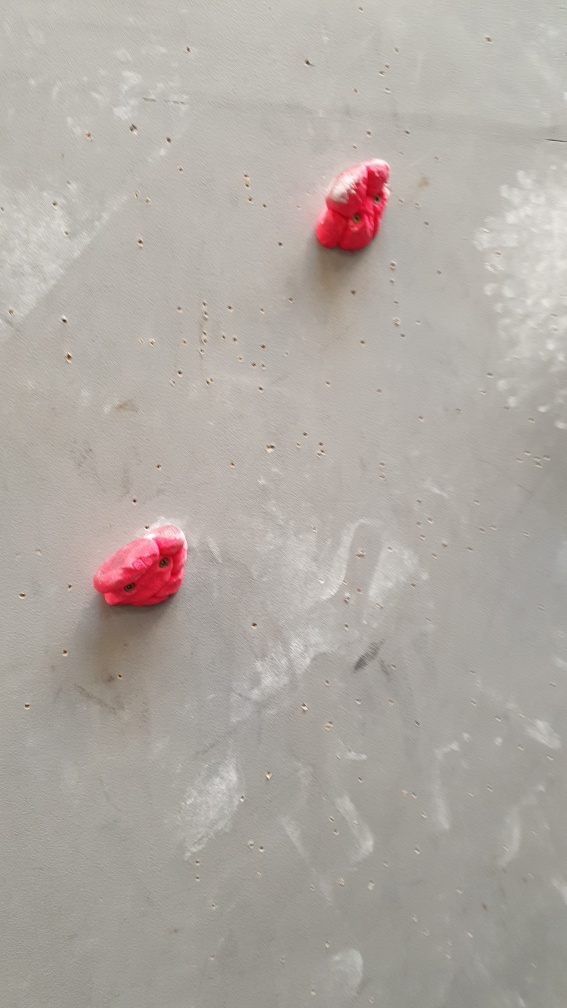Jug: (90, 517, 190, 612), (312, 155, 394, 257)
